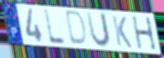4: (24, 8, 44, 44)
D: (65, 10, 88, 48)
H: (130, 16, 158, 52)
K: (110, 14, 133, 50)
L: (43, 8, 68, 46)
U: (85, 10, 112, 50)
